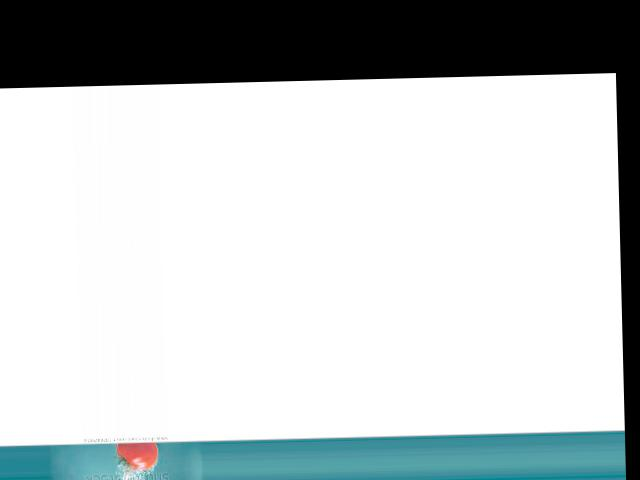tomato: (115, 441, 157, 470)
